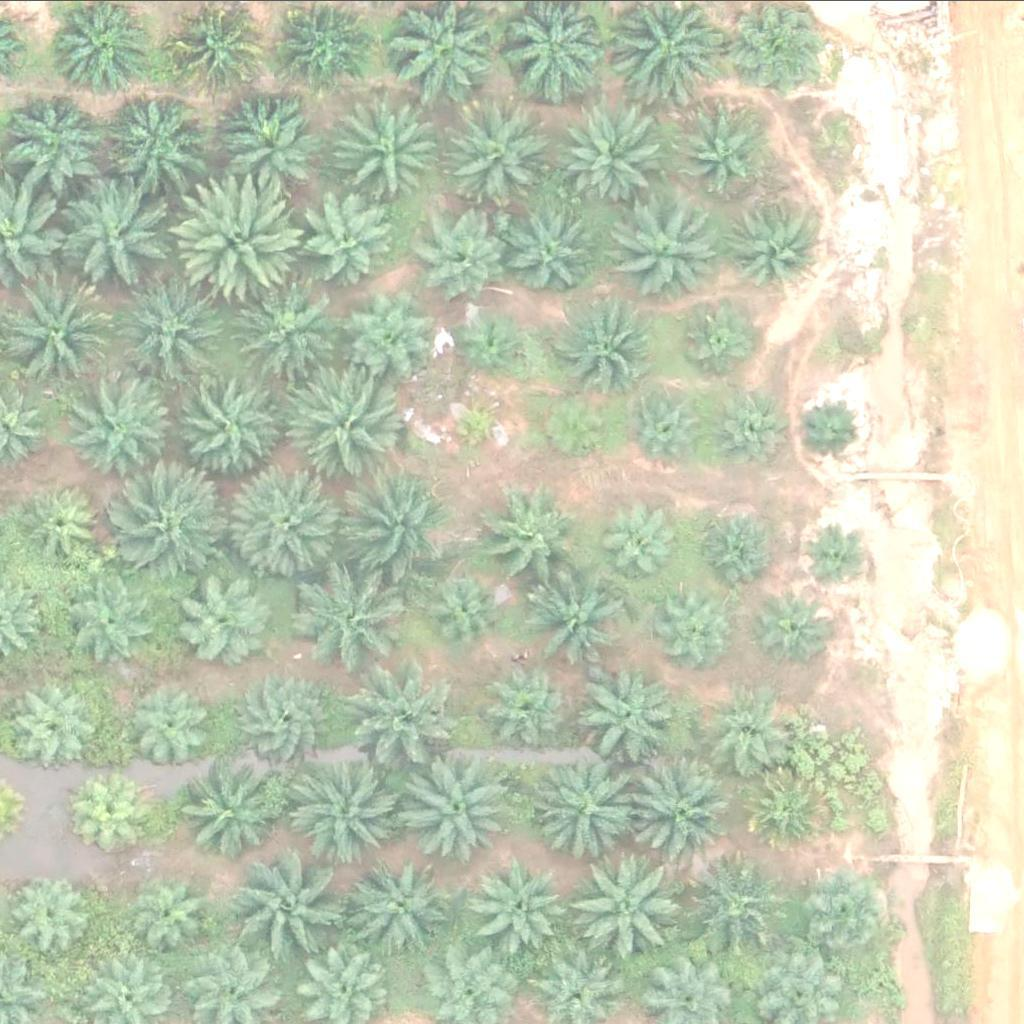Kelapa_Sawit: (176, 170, 302, 295), (54, 180, 168, 293), (397, 756, 511, 869), (2, 278, 115, 391), (114, 274, 227, 387), (169, 367, 282, 480), (230, 470, 343, 583), (624, 751, 737, 864), (528, 759, 641, 872), (332, 471, 446, 583), (293, 754, 407, 866), (570, 852, 684, 964), (70, 375, 183, 487), (287, 370, 400, 482), (121, 473, 234, 585), (338, 660, 451, 772), (232, 856, 345, 968), (106, 86, 207, 186), (343, 100, 444, 200), (455, 105, 556, 205), (563, 109, 664, 209), (235, 283, 336, 383), (336, 281, 437, 381), (484, 489, 585, 589), (533, 575, 634, 675), (305, 575, 406, 675), (581, 665, 682, 765), (181, 762, 282, 862), (349, 859, 450, 959), (686, 857, 787, 957), (550, 290, 651, 390), (13, 91, 113, 191), (213, 101, 313, 201), (615, 198, 715, 298), (171, 568, 271, 668), (239, 670, 339, 770), (171, 6, 259, 94), (423, 213, 511, 301), (706, 388, 794, 476), (744, 769, 832, 857), (20, 480, 108, 568), (422, 566, 510, 654), (13, 685, 101, 773), (482, 859, 570, 947), (510, 211, 599, 298), (70, 581, 159, 668), (279, 4, 367, 91), (681, 104, 769, 191), (730, 202, 818, 289), (303, 196, 391, 283), (625, 379, 713, 466), (129, 684, 217, 771), (491, 662, 579, 749), (711, 685, 799, 772), (9, 868, 97, 955), (133, 871, 221, 958), (803, 869, 891, 956), (608, 508, 684, 583), (696, 506, 772, 581), (456, 307, 532, 382), (543, 388, 619, 463), (79, 774, 155, 849), (678, 300, 753, 375), (663, 588, 738, 663), (763, 590, 838, 665), (804, 529, 867, 592), (800, 397, 863, 459), (444, 394, 507, 456)
